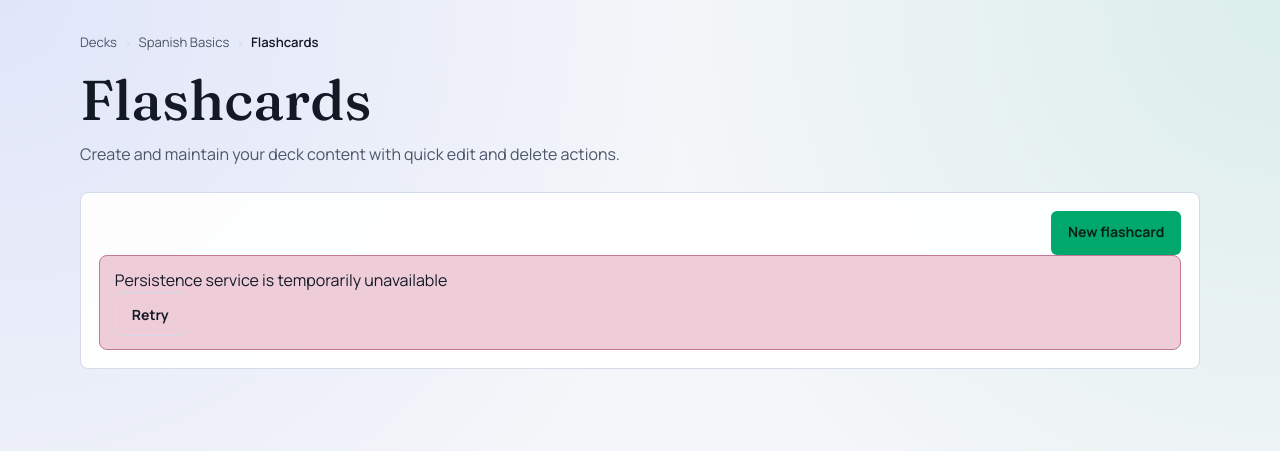
Test: flashcard routes › renders recoverable list error for persistence outage with retry
The width and height of the screenshot is (1280, 451).
Click the button "Retry".
click(150, 314)  # box [115,292,186,336]
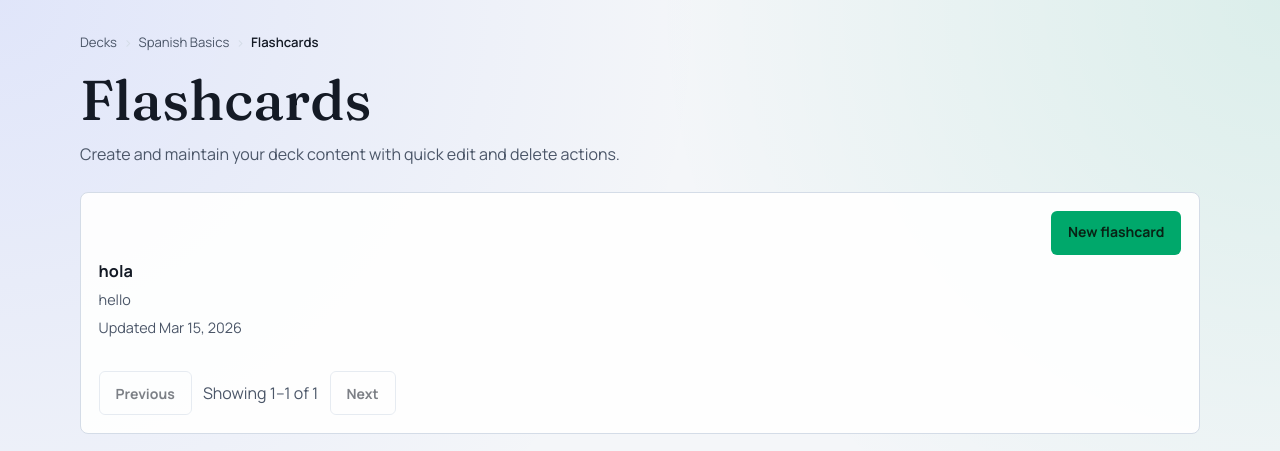
Check: the link "hola" is shown, box [99,260,133,282]
